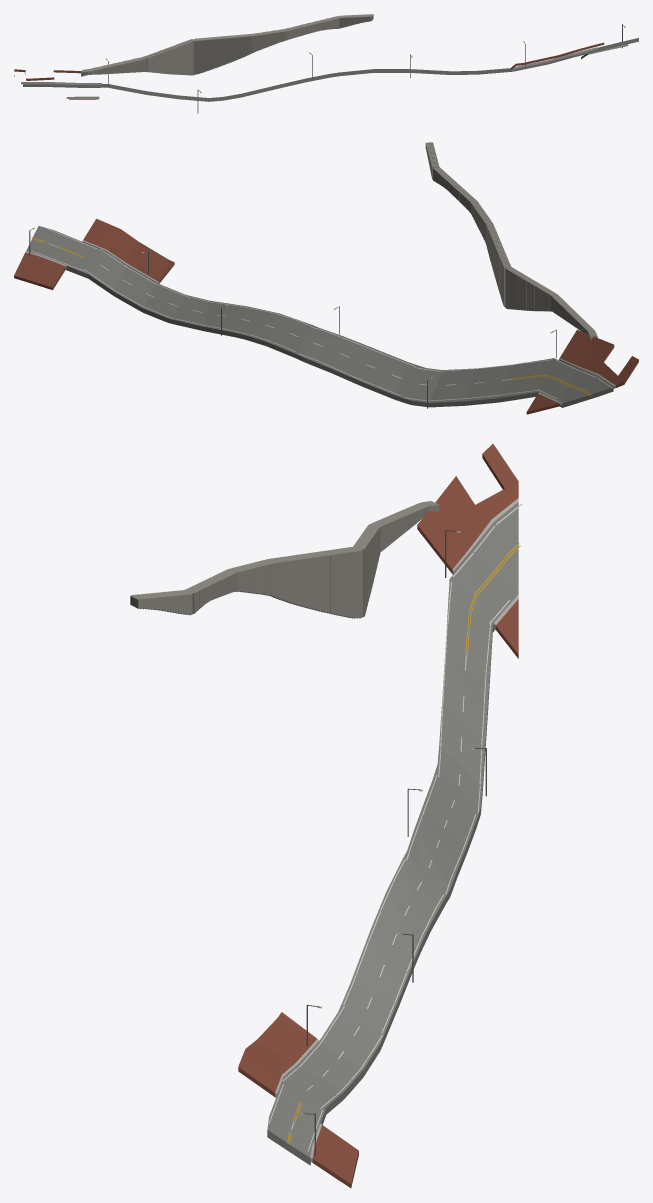
The picture shows the model from 3 angles, top to bottom: view 1: azimuth 30°, elevation 25°; view 2: azimuth 150°, elevation 25°; view 3: azimuth 270°, elevation 25°; orthographic projection. The views are drawn at different scales.
Bounding box in the file's own units: 187 × 46.97 × 55.86.
